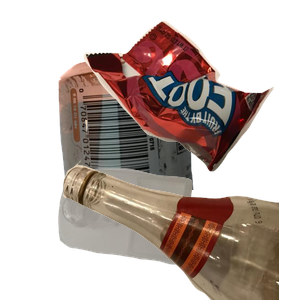glass: (60, 120, 300, 300)
metal: (56, 52, 242, 232)
plastic: (56, 166, 241, 300)
trash: (81, 18, 300, 182)
